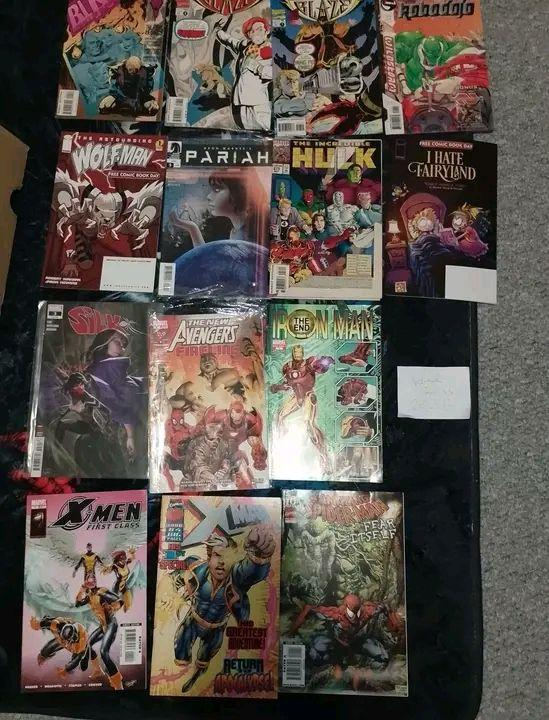comic: (150, 495, 281, 698), (280, 490, 407, 696), (21, 491, 146, 691), (145, 310, 267, 492), (40, 127, 167, 295), (27, 302, 147, 478), (266, 302, 381, 481), (157, 134, 272, 298), (384, 137, 496, 302), (269, 139, 381, 299), (378, 0, 493, 136), (271, 0, 382, 138), (165, 0, 271, 131), (56, 0, 168, 122)
